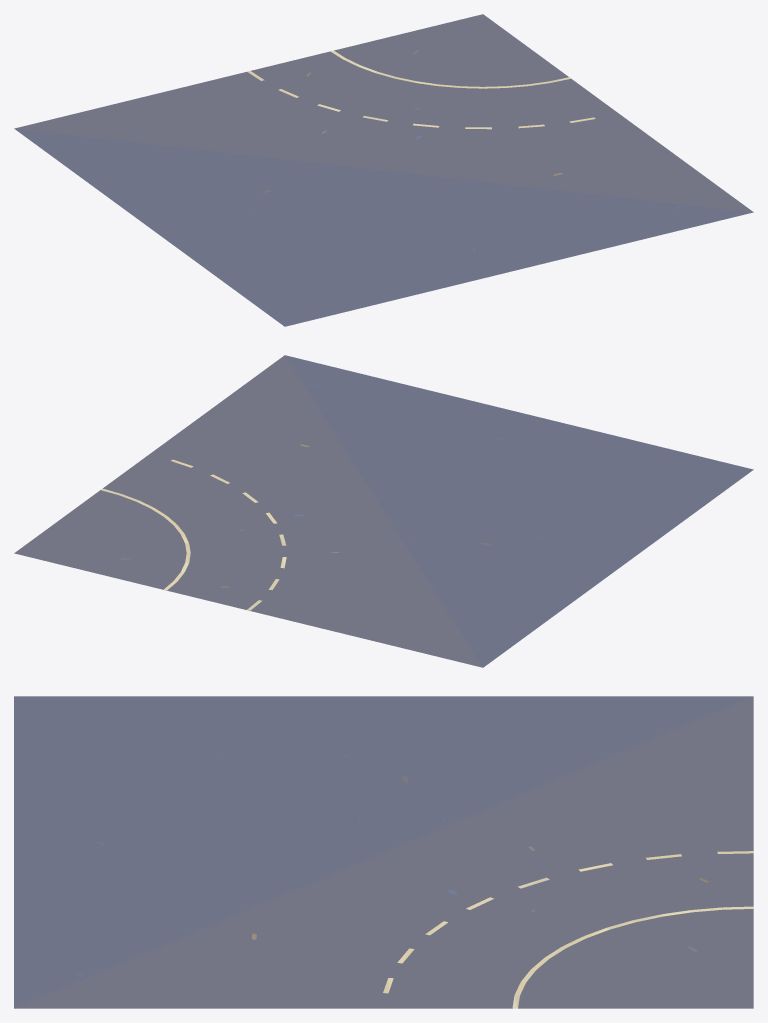
The model's file is HK_RoadSurf_TurnOpen.lod.glb.
The picture shows the model from 3 angles, top to bottom: view 1: azimuth 30°, elevation 25°; view 2: azimuth 150°, elevation 25°; view 3: azimuth 270°, elevation 25°; orthographic projection. The views are drawn at different scales.
Parts seen in each view (by area): view 1: HK_RoadSurf_TurnOpen; view 2: HK_RoadSurf_TurnOpen; view 3: HK_RoadSurf_TurnOpen.
Boxes of the visible parts, bbox=[...] form: HK_RoadSurf_TurnOpen: bbox=[14, 14, 753, 326]; HK_RoadSurf_TurnOpen: bbox=[14, 355, 753, 667]; HK_RoadSurf_TurnOpen: bbox=[14, 696, 753, 1008].
Size of the model in its own units: 20 by 0.0126 by 20.
